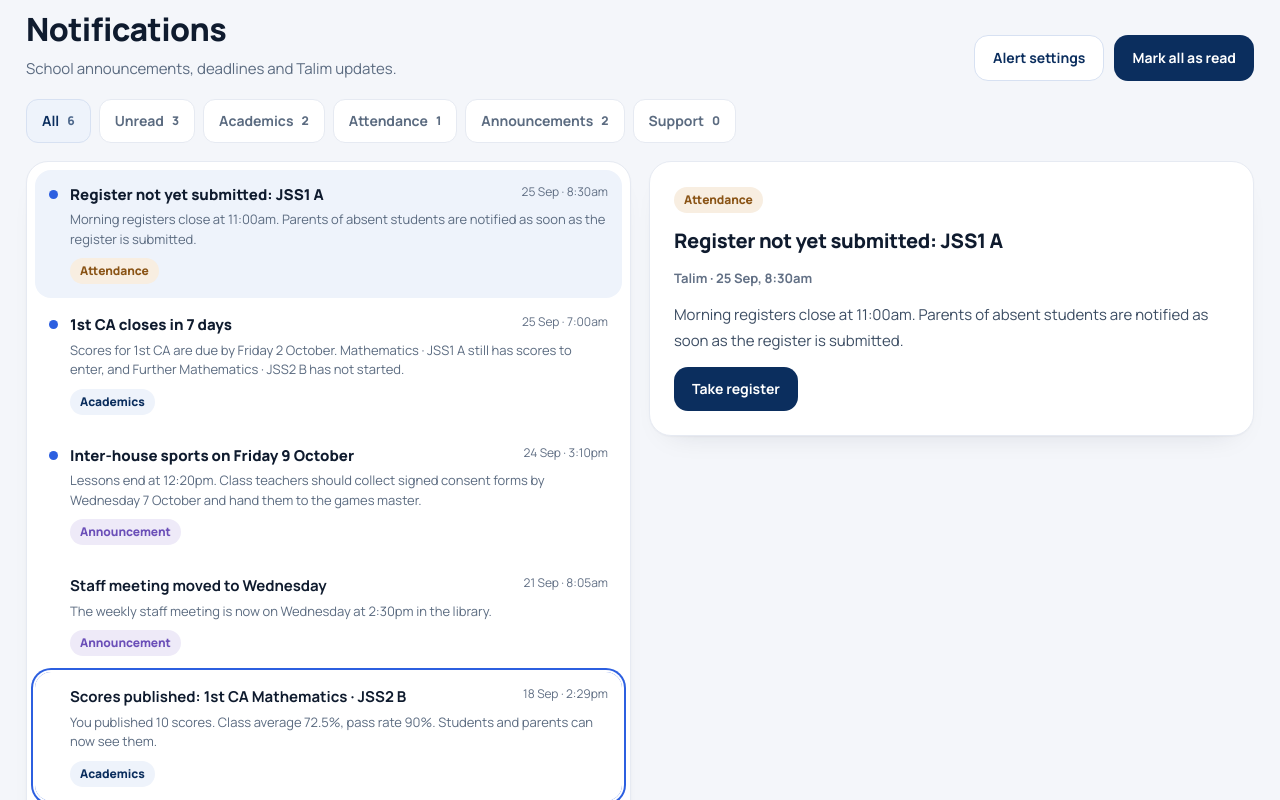
Scenario: NotificationsScreen › keeps focus in the list on wide screens
This screenshot has width=1280, height=800.
(page scrolled)
Step 1. Click the button "Scores published" → (238, 696), box x1=35 y1=672 x2=622 y2=799
(page scrolled)
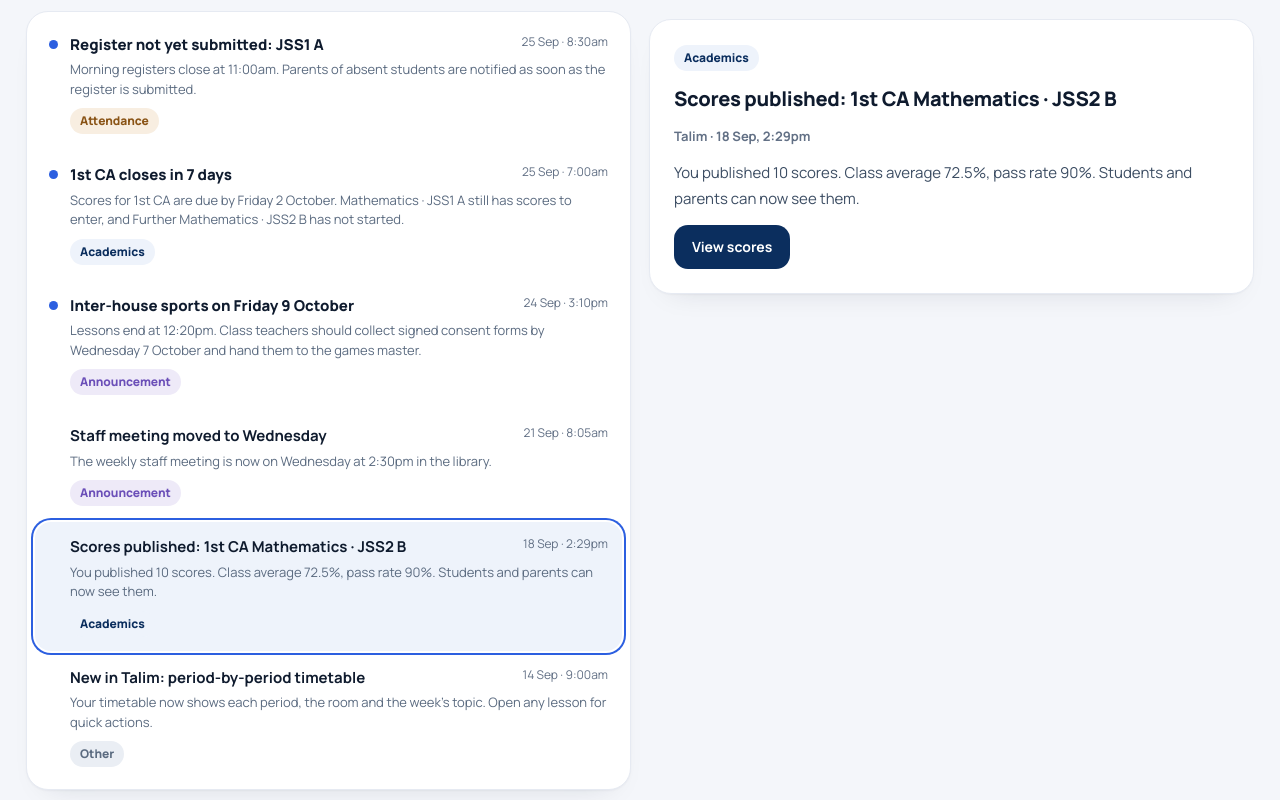
Expected: the heading "Scores published: 1st CA Mathematics · JSS2 B" is shown, x1=674 y1=84 x2=1116 y2=111
